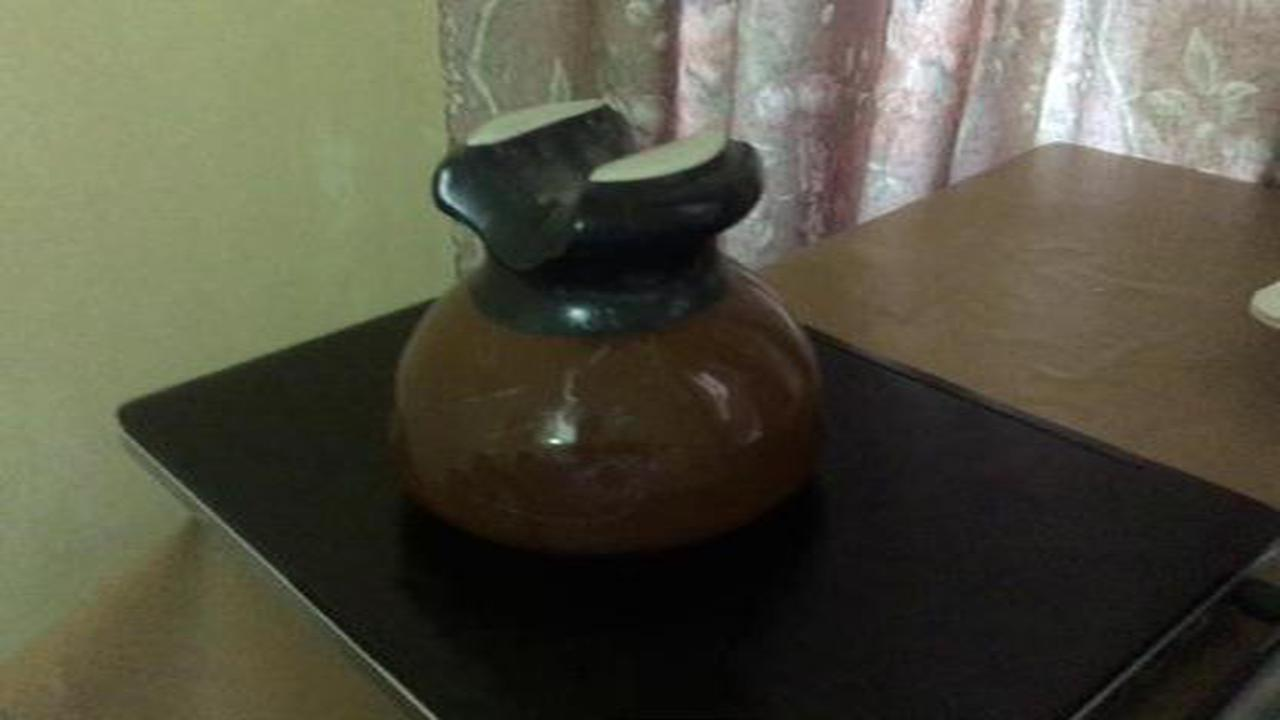insulator_pin: (333, 89, 865, 575)
